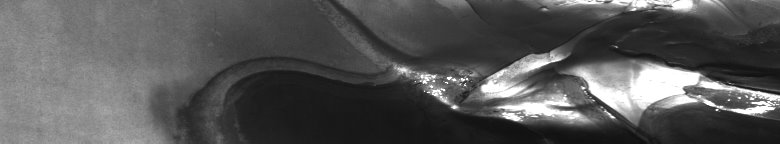ke: (343, 4, 716, 132)
